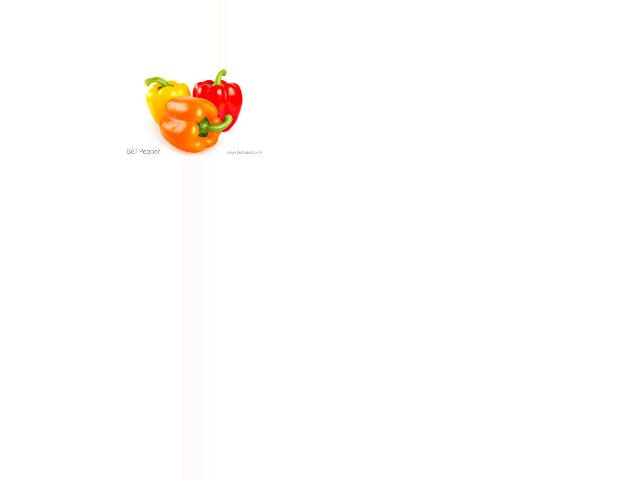bell_pepper: (142, 74, 192, 126)
